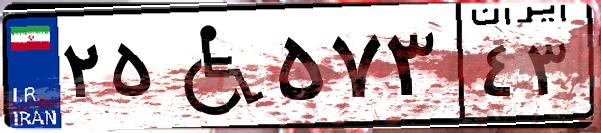2: (57, 26, 110, 100)
3: (385, 28, 445, 110), (525, 38, 570, 115)
4: (475, 38, 525, 113)
5: (270, 28, 330, 110), (110, 28, 158, 98)
7: (330, 28, 385, 110)
ژ (معلولین و جانبازان): (158, 12, 270, 120)
